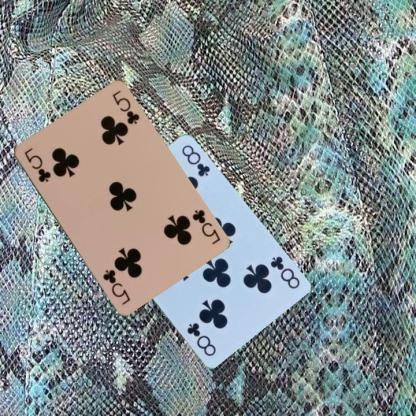5c: (189, 207, 221, 245), (21, 145, 52, 184)
8c: (267, 254, 301, 290)
